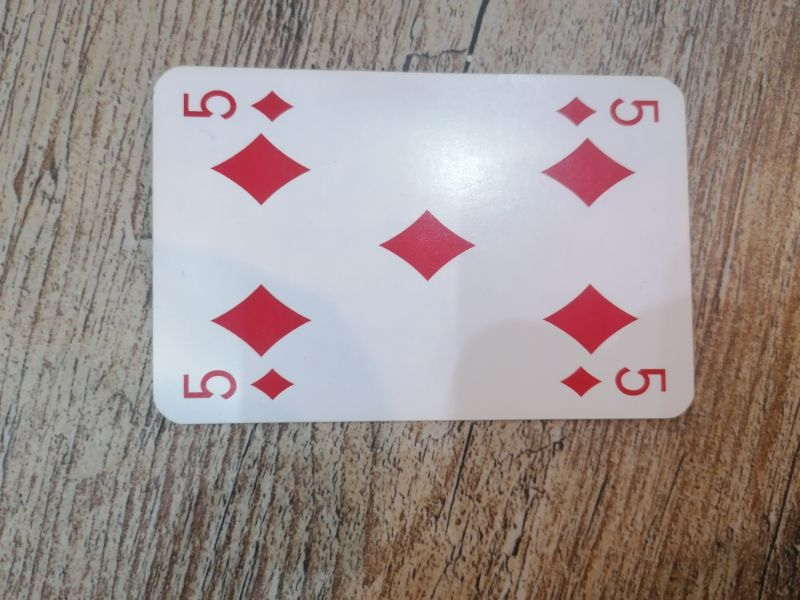5d: (170, 84, 297, 128), (177, 362, 303, 405), (554, 359, 676, 402), (551, 89, 669, 132)
